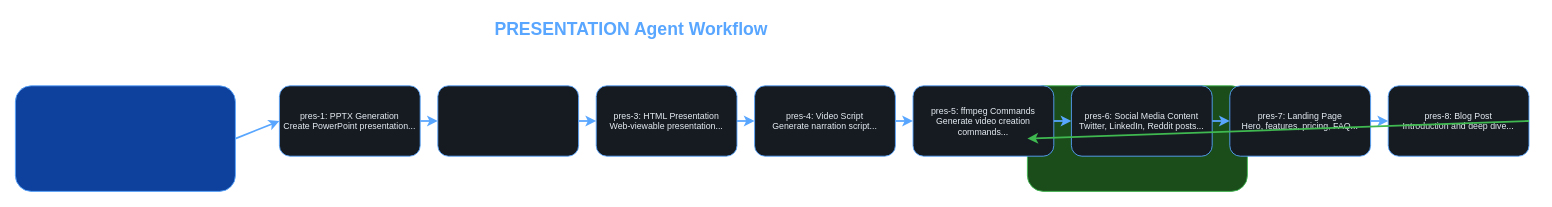
Image size: 1552x207. Some labels were removed from this diagram. The box of each missing label's shape, as (x1, y1, x2, y2) in pixels:
Inputs: Product info Features: (15, 85, 235, 191)
Outputs: PPTX, PDF, HTML, Video scripts, Marketing content: (1027, 85, 1247, 191)
pres-2: PDF Generation Create PDF version...: (437, 85, 579, 156)
